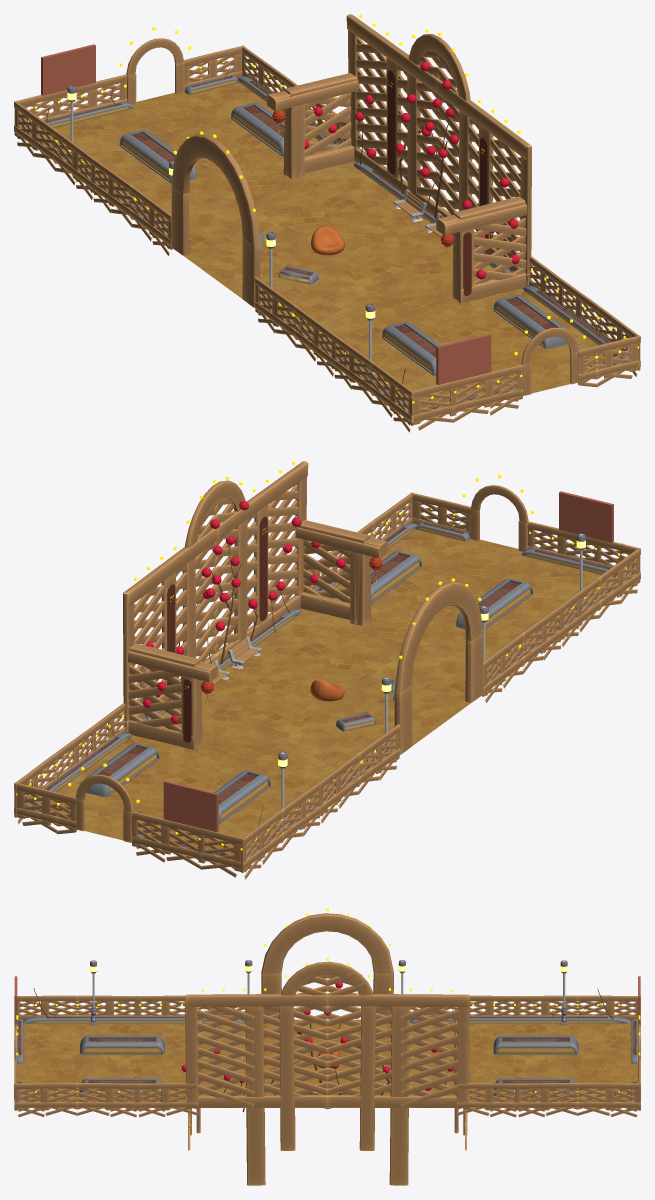
3 renders of one model, top to bottom at view 1: azimuth 30°, elevation 25°; view 2: azimuth 150°, elevation 25°; view 3: azimuth 270°, elevation 25°, orthographic. The views are drawn at different scales.
Parts seen in each view (by area): view 1: Plane.065, Fence, Fence.002, BenchStreet.013, BenchStreet.014, Cube.133, Fence.003, BenchStreet.005, BenchStreet.037, BenchStreet.011, BenchStreet.010, BenchStreet.018 (+29 smaller); view 2: Plane.065, Fence, Fence.002, BenchStreet.013, BenchStreet.014, Cube.133, Fence.003, BenchStreet.037, BenchStreet.005, BenchStreet.011, BenchStreet.010, BenchStreet.018 (+30 smaller); view 3: Plane.065, Fence, BenchStreet.014, BenchStreet.013, BenchStreet.019, BenchStreet.018, BenchStreet.037, BenchStreet.005, BenchStreet.039, BenchStreet.020, PotMiddleLarge.022, PotMiddleLarge.020 (+8 smaller).
Boxes of the visible parts, x1,y1,x2,y2 form: Plane.065: (14, 82, 640, 422); Fence: (14, 45, 640, 432); Fence.002: (14, 74, 523, 430); BenchStreet.013: (397, 64, 478, 231); BenchStreet.014: (356, 37, 520, 257); Cube.133: (41, 44, 491, 385); Fence.003: (184, 45, 640, 387); BenchStreet.005: (171, 134, 260, 246); BenchStreet.037: (346, 14, 531, 159); BenchStreet.011: (304, 92, 525, 284); BenchStreet.010: (305, 97, 526, 286); BenchStreet.018: (407, 72, 472, 210); Plane.065: (17, 529, 640, 869); Fence: (14, 492, 640, 879); Fence.002: (131, 521, 640, 877); BenchStreet.013: (176, 511, 257, 678); BenchStreet.014: (134, 484, 298, 703); Cube.133: (163, 491, 613, 831); Fence.003: (14, 492, 470, 834); BenchStreet.037: (123, 461, 308, 607); BenchStreet.005: (394, 581, 483, 693); BenchStreet.011: (129, 539, 350, 731); BenchStreet.010: (128, 544, 350, 733); BenchStreet.018: (182, 519, 247, 657); Plane.065: (17, 1019, 637, 1107); Fence: (14, 995, 640, 1117); BenchStreet.014: (197, 1007, 458, 1109); BenchStreet.013: (263, 985, 391, 1109); BenchStreet.019: (245, 1006, 409, 1185); BenchStreet.018: (279, 1006, 375, 1150); BenchStreet.037: (185, 994, 469, 1006); BenchStreet.005: (261, 913, 393, 973); BenchStreet.039: (185, 1095, 469, 1108); BenchStreet.020: (185, 996, 469, 1105); PotMiddleLarge.022: (493, 1035, 578, 1054); PotMiddleLarge.020: (80, 1035, 164, 1054).
Size of what is drawn, in the model's own units: 16 by 19.14 by 48.02.
Materials: 12 (7 with a texture image).
